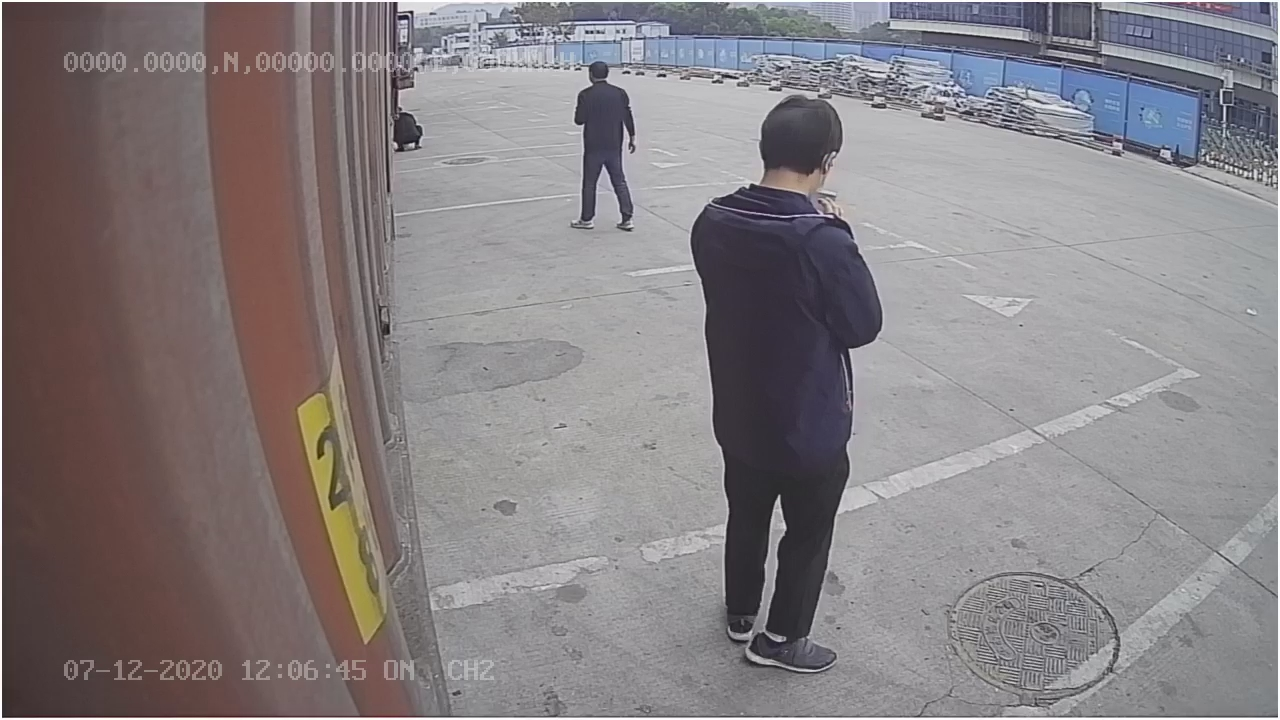person: (693, 99, 917, 669)
